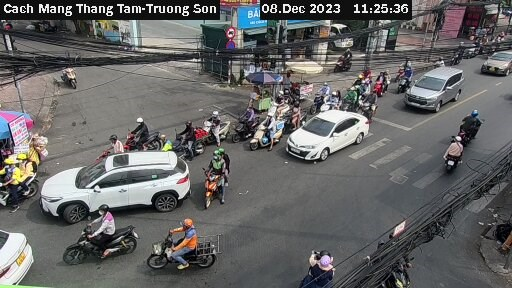car: (43, 148, 191, 215), (287, 108, 372, 164), (404, 65, 467, 111), (2, 225, 35, 283), (481, 47, 512, 75)
motorbike: (153, 224, 241, 279), (66, 210, 140, 266), (195, 163, 252, 208), (1, 154, 47, 208), (292, 241, 349, 281), (438, 139, 471, 183), (447, 116, 493, 147), (169, 123, 211, 156), (120, 121, 164, 150), (59, 62, 98, 93), (198, 115, 238, 145), (254, 123, 291, 155), (226, 115, 260, 141), (330, 52, 360, 75), (372, 74, 397, 98), (306, 87, 329, 108)
